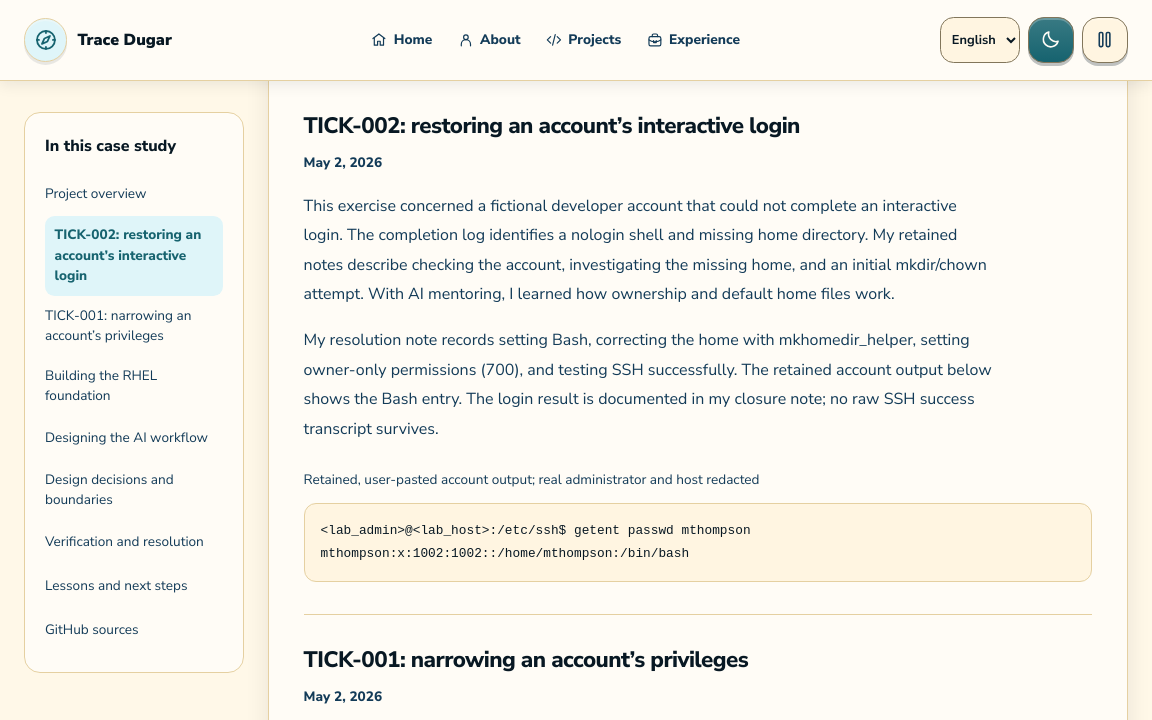
Test: Linux exercise links focus dated evidence and render sanitized output as keyboard-accessible text in both languages
The width and height of the screenshot is (1152, 720).
(page scrolled)
Check: the element named "Retained, user-pasted account output; real administrator and host redacted" shows "/home/mthompson:/bin/bash", box [320,523,750,561]
Check: the text "May 2, 2026" is shown 2 times, box [304,153,382,172]; [304,688,382,706]
Select "日本語" in the dropdown named "Language" at [980, 40], box [940,17,1020,63]
(page scrolled)
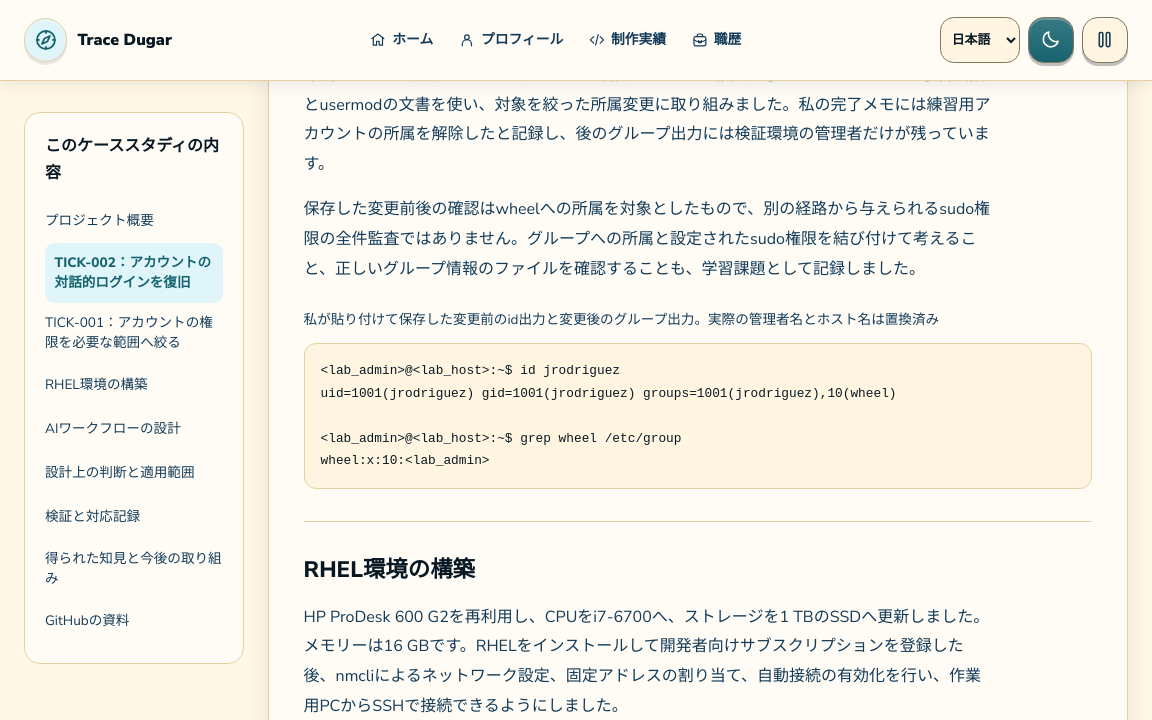
Check: the element named "私が貼り付けて保存した変更前のid出力と変更後のグループ出力。実際の管理者名とホスト名は置換済み" shows "wheel:x:10:<lab_admin>", box [320,363,896,468]
Check: the link "TICK-002: restoring an account’s interactive login" is gone
